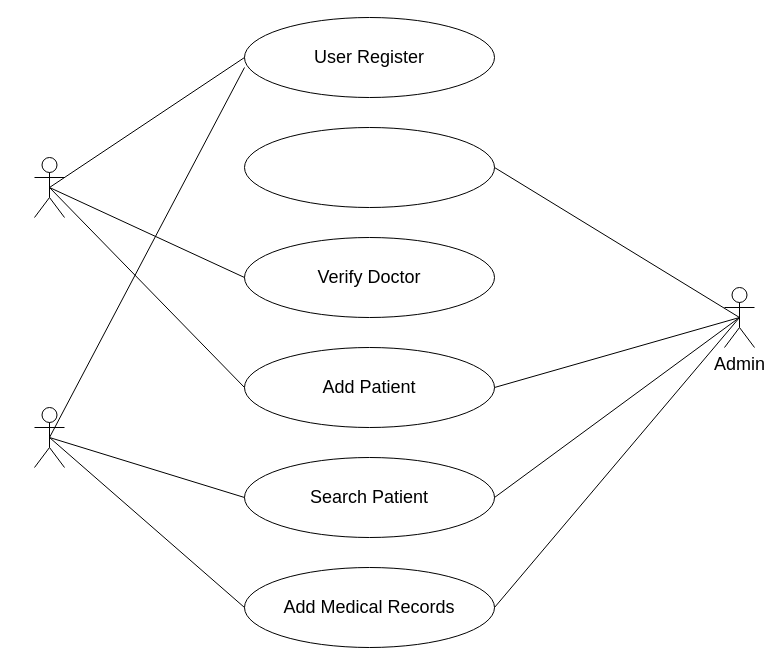
Image size: 782x665. Some labels were removed from this diagram. The shapes that lost their labels are listed below. From the top down, each one's centre as x and y in pixels, then its label:
At point 49,187: "Hospital".
At point 369,167: "Verify Hospital".
At point 49,437: "Doctor".
